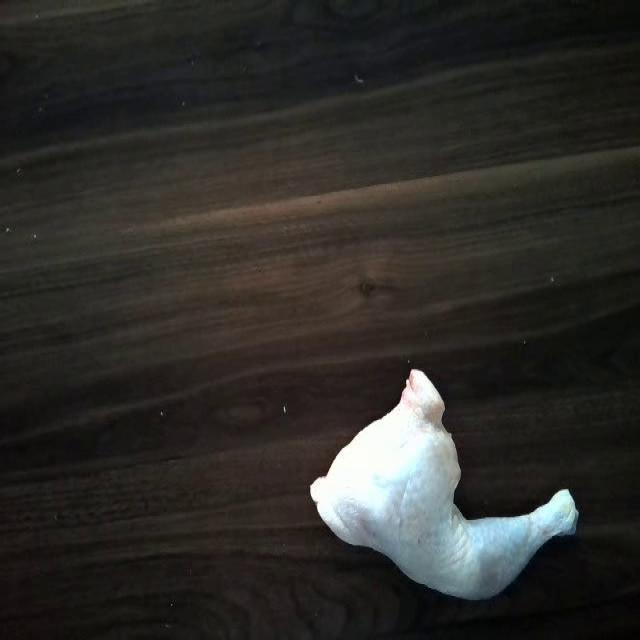quater: (300, 376, 598, 600)
